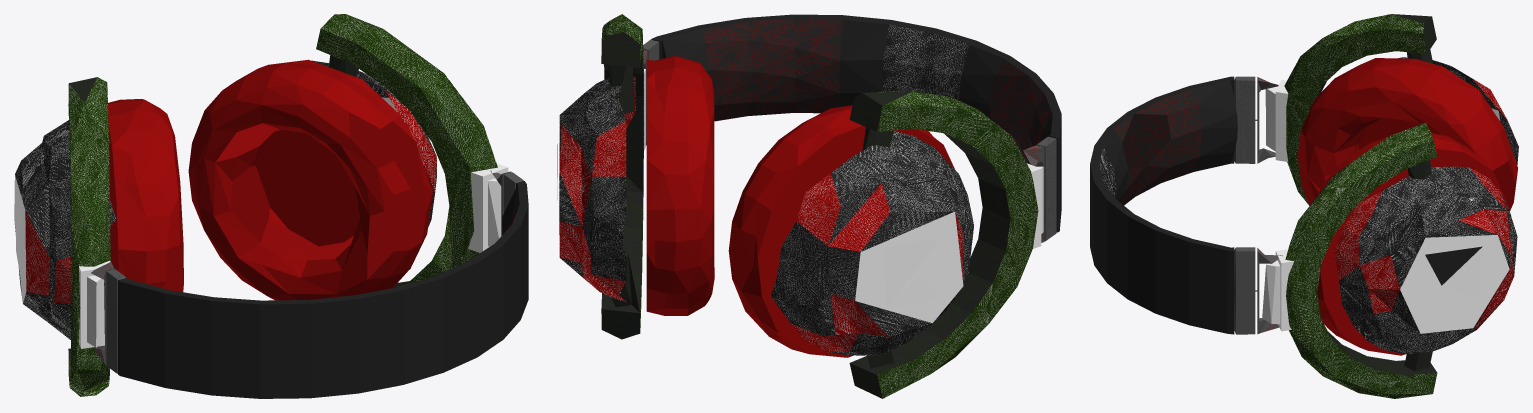
File: model_align.obj
3 views of the same model, side by side, from view 1: azimuth 30°, elevation 25°; view 2: azimuth 150°, elevation 25°; view 3: azimuth 270°, elevation 25° (orthographic). The views are drawn at different scales.
Bounding box in the file's own units: 0.1521 × 0.104 × 0.1491.
